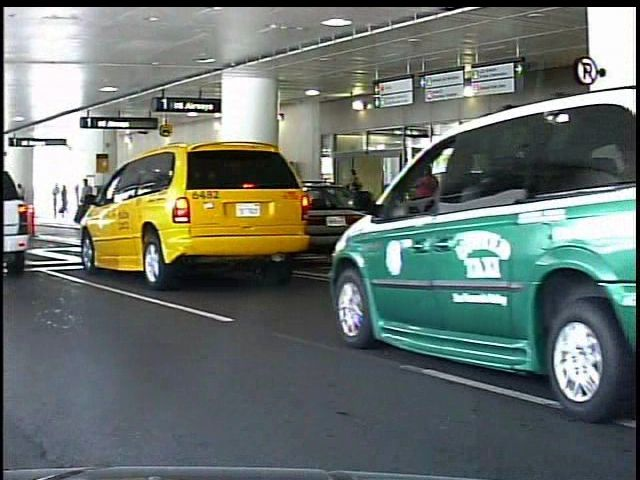person: (342, 167, 370, 248), (79, 178, 97, 228), (61, 183, 74, 223), (56, 183, 67, 223)
